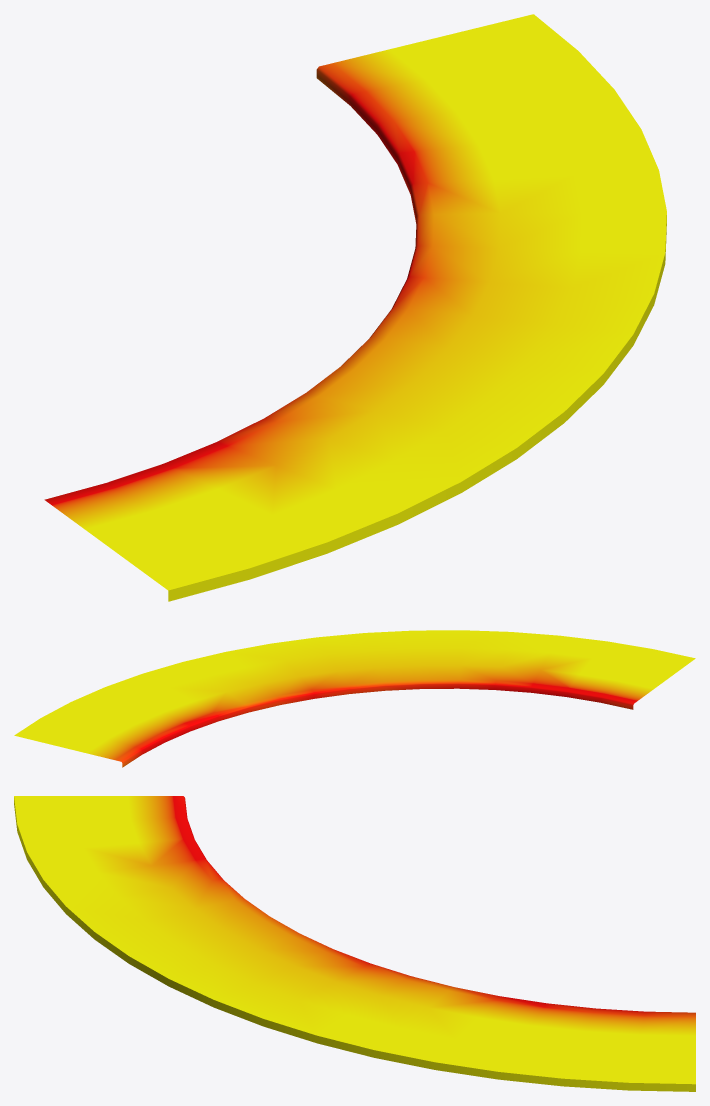
File: street-curve-2lane-curb.glb
3 renders of one model, top to bottom at view 1: azimuth 30°, elevation 25°; view 2: azimuth 150°, elevation 25°; view 3: azimuth 270°, elevation 25°, orthographic. The views are drawn at different scales.
Parts seen in each view (by area): view 1: Street_Curve_2Lane_Curb; view 2: Street_Curve_2Lane_Curb; view 3: Street_Curve_2Lane_Curb.
Boxes of the visible parts, <box> form: Street_Curve_2Lane_Curb: <box>44,14,666,601</box>; Street_Curve_2Lane_Curb: <box>14,630,695,767</box>; Street_Curve_2Lane_Curb: <box>14,796,695,1091</box>.
Bounding box in the file's own units: 12 × 0.15 × 12.
Materials: 1 (1 with a texture image).
